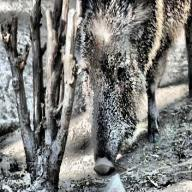boar: (63, 0, 192, 184)
